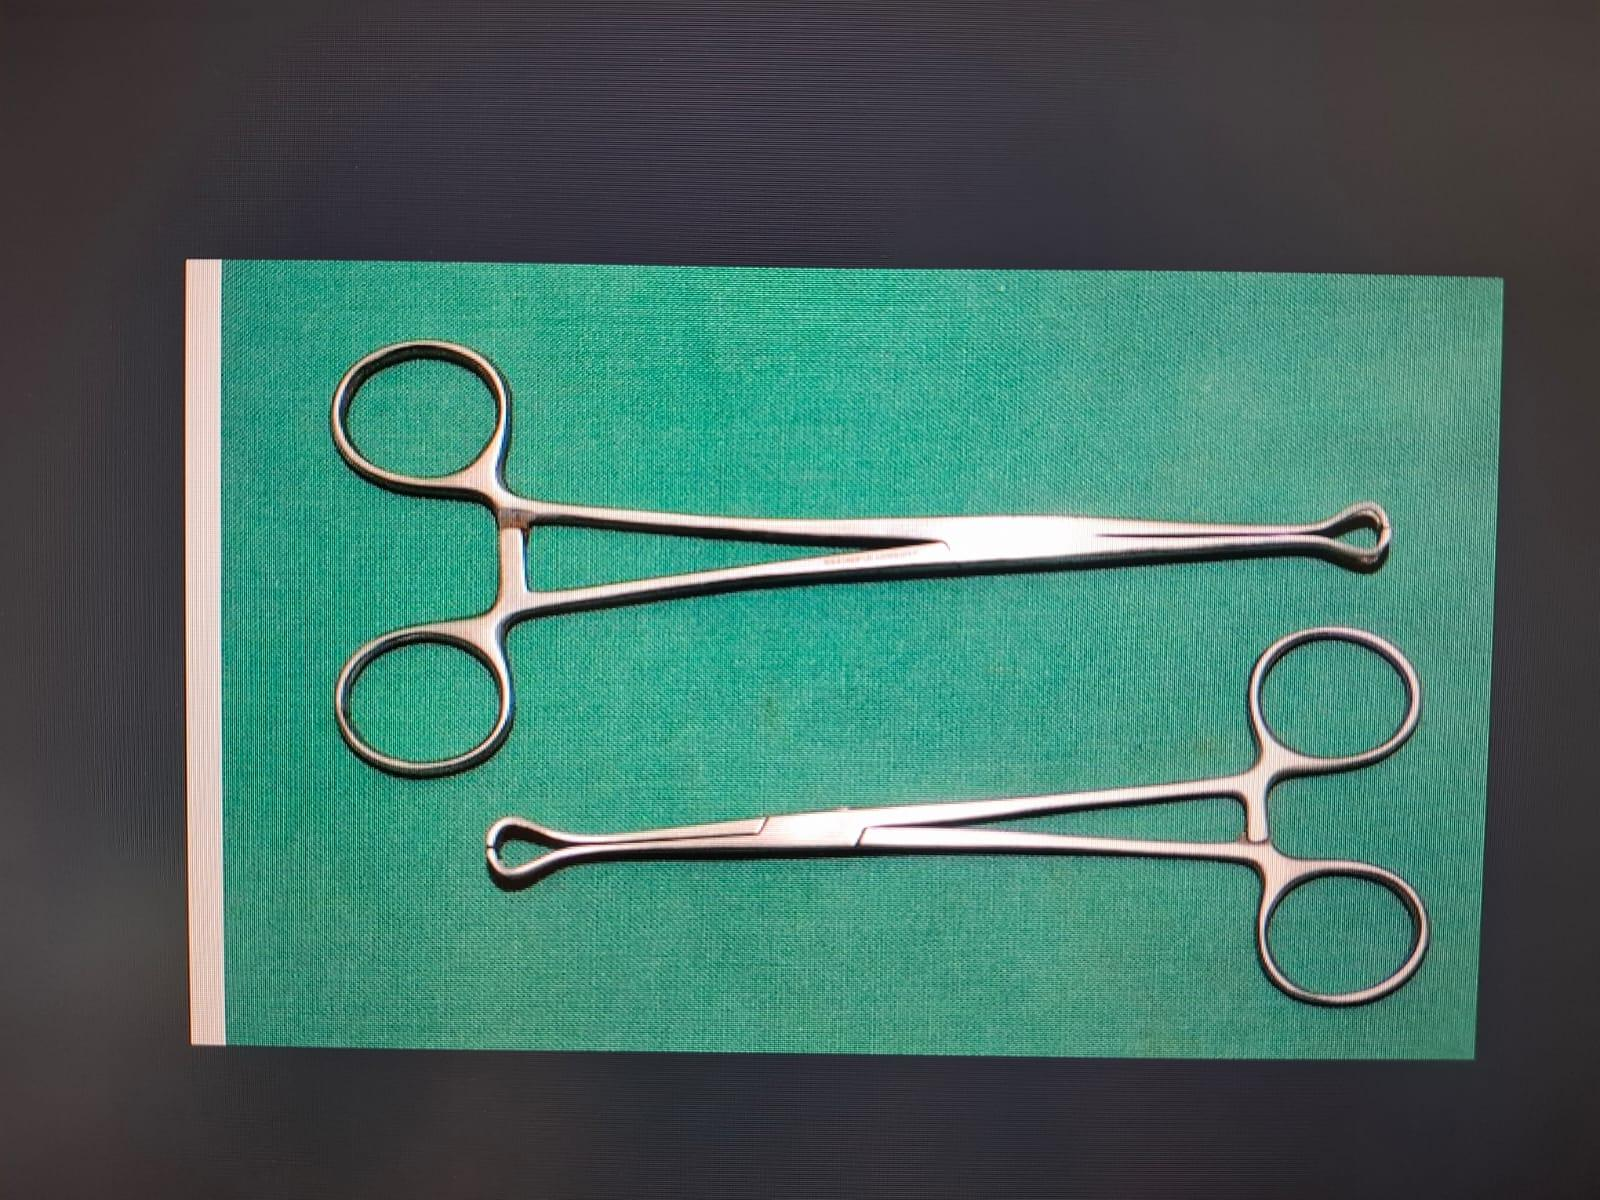Babcock Forceps: (323, 332, 1406, 788), (474, 620, 1440, 1034)
